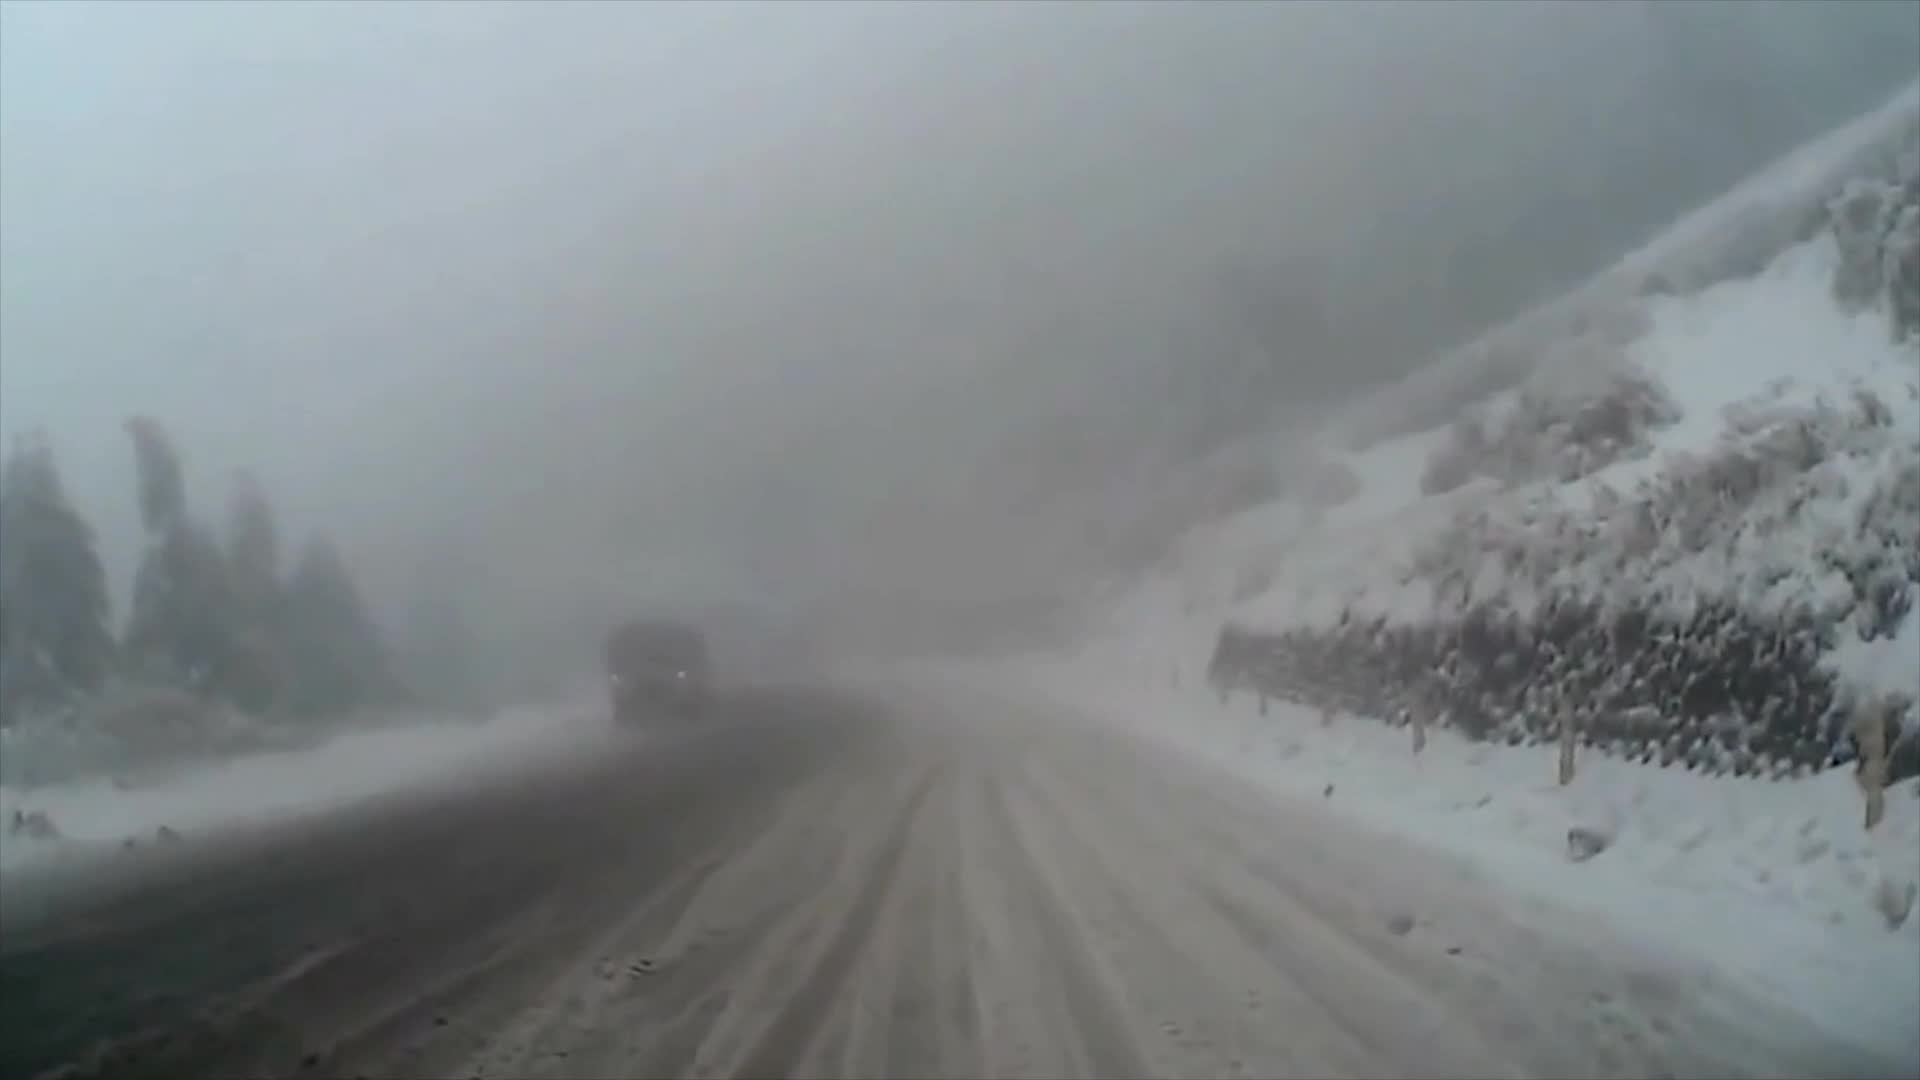vehicle: (597, 626, 707, 724)
